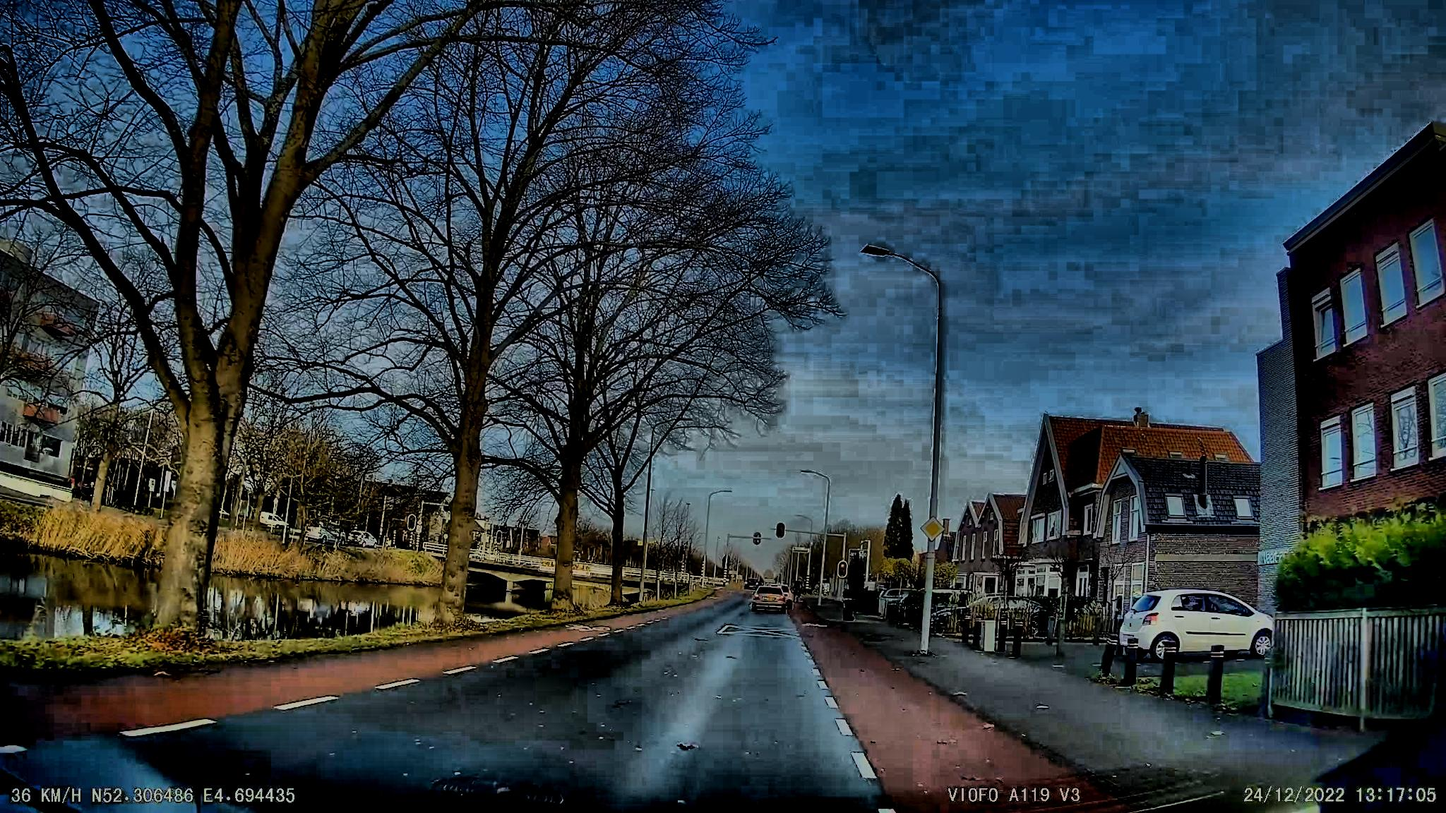Roads: (0, 594, 1073, 813)
